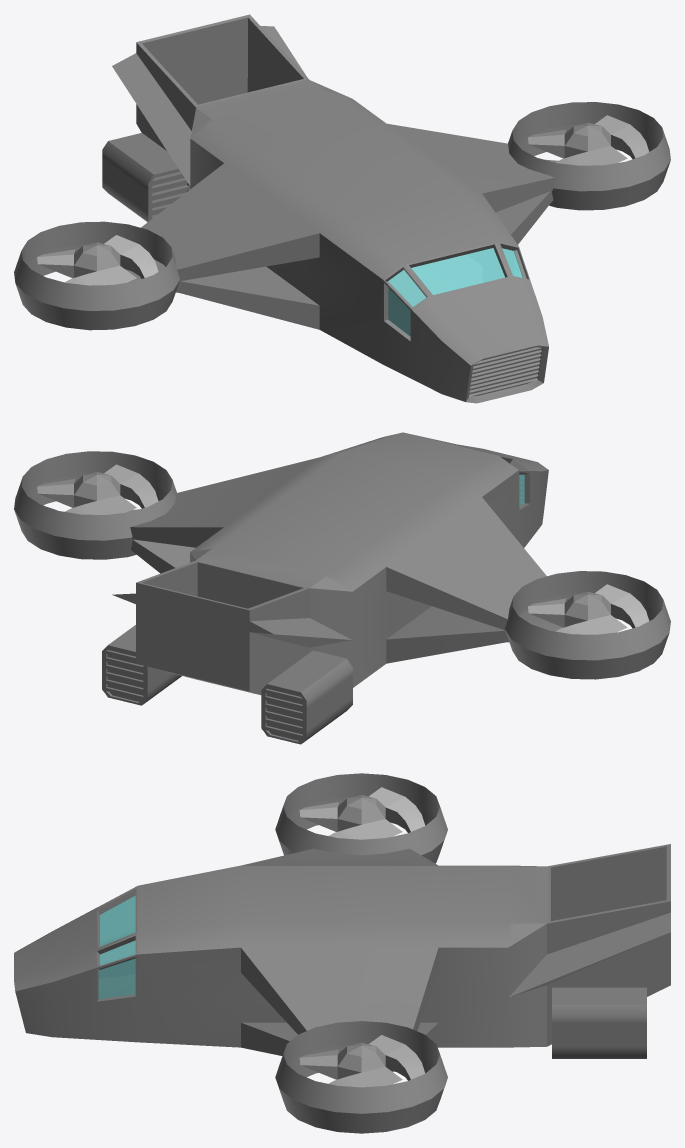
The model's file is load_ship.fbx.
3 views of the same model, one above another, from view 1: azimuth 30°, elevation 25°; view 2: azimuth 150°, elevation 25°; view 3: azimuth 270°, elevation 25° (orthographic). The views are drawn at different scales.
Parts seen in each view (by area): view 1: load_ship; view 2: load_ship; view 3: load_ship.
Part boxes in pixels (x1=…): load_ship: x1=14, y1=14, x2=670, y2=403; load_ship: x1=14, y1=432, x2=670, y2=744; load_ship: x1=14, y1=773, x2=670, y2=1133.
Bounding box in the file's own units: 13.95 × 2.95 × 12.07.
